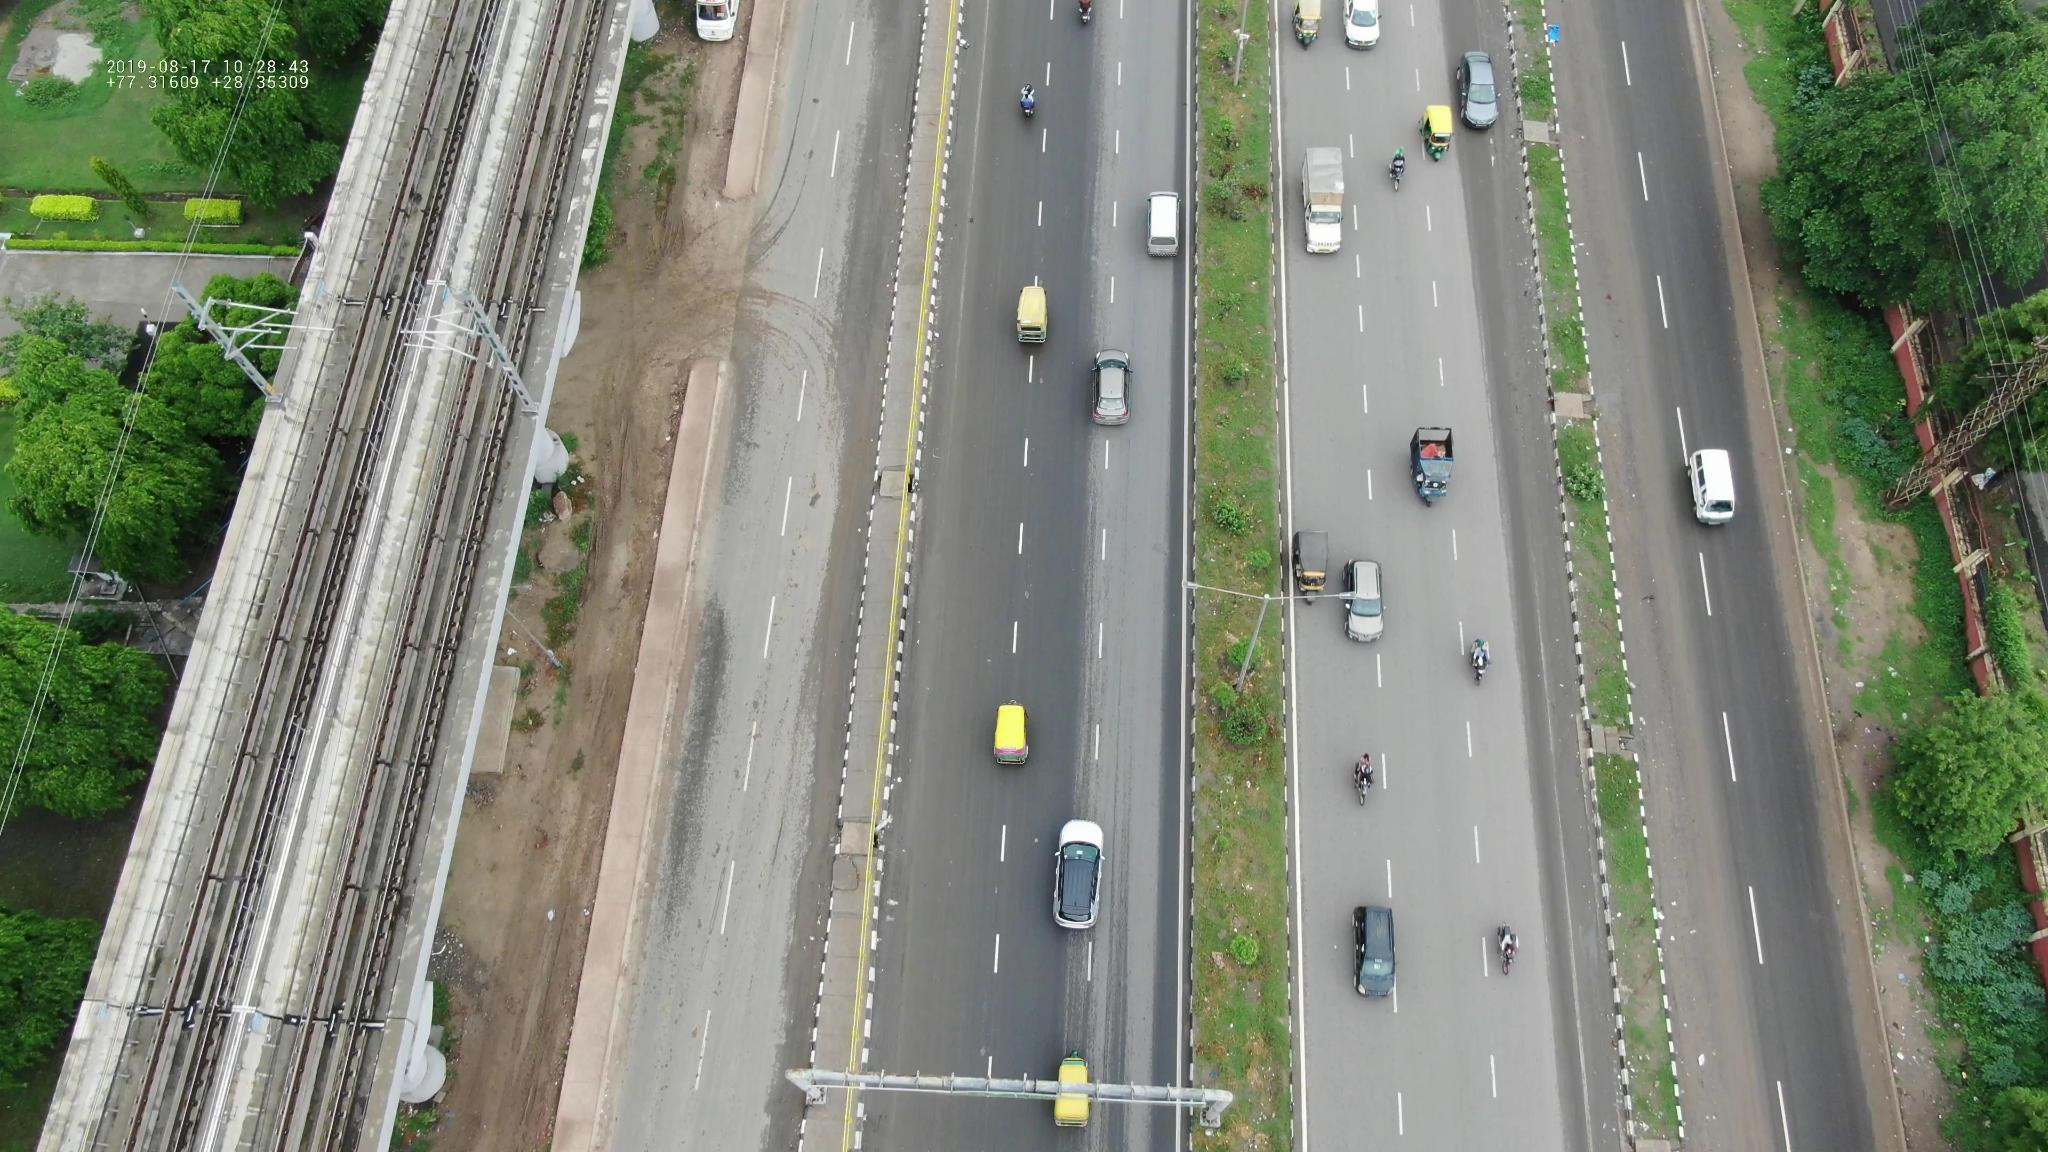Muddy_road: (1604, 489, 1709, 814), (1664, 833, 1769, 1146), (1570, 190, 1660, 460), (1550, 14, 1618, 172)
